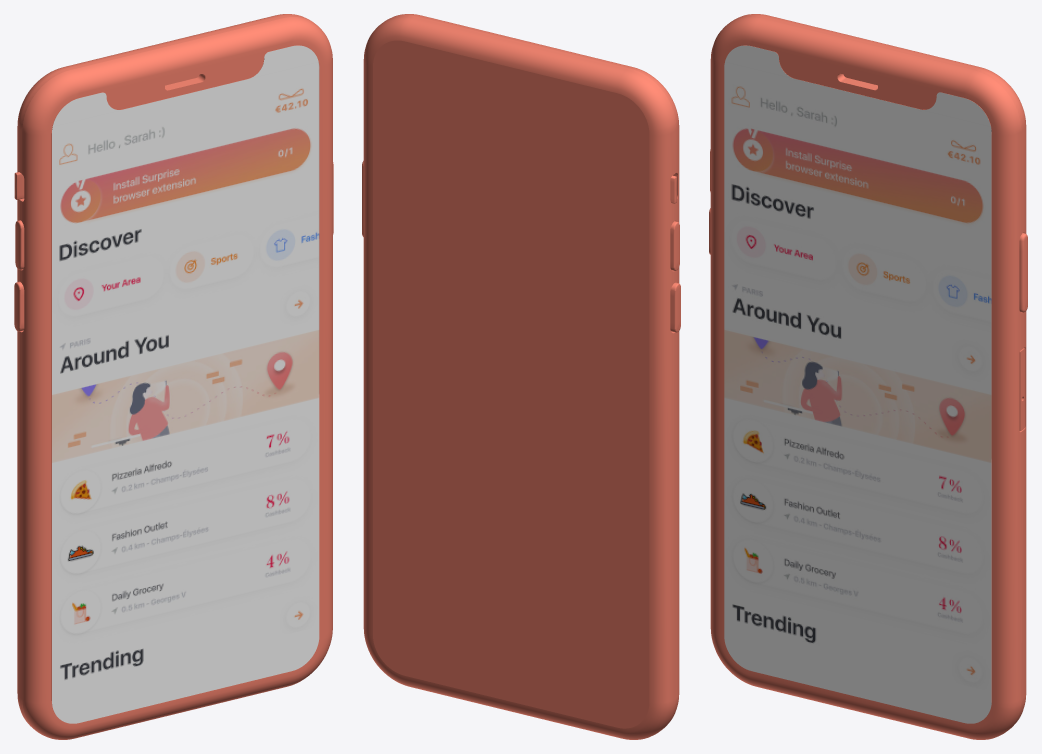
3 renders of one model, left to right at view 1: azimuth 30°, elevation 25°; view 2: azimuth 150°, elevation 25°; view 3: azimuth 330°, elevation 25°, orthographic.
Visible parts, largest first — view 1: Ecran.001, Iphone.001, header_footer; view 2: Iphone.001; view 3: Ecran.001, Iphone.001, header_footer.
Part boxes in pixels (box(x1,y1,x2,y2)): Ecran.001: box(52, 62, 319, 691); Iphone.001: box(14, 14, 333, 739); header_footer: box(52, 45, 319, 723); Iphone.001: box(362, 14, 680, 739); Ecran.001: box(724, 62, 991, 691); Iphone.001: box(709, 14, 1027, 739); header_footer: box(724, 45, 991, 723).
Size of the model in its own units: 111 by 226 by 12.77.
3 materials, 1 textured.
